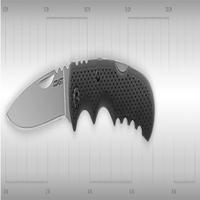knife: (5, 54, 159, 141)
